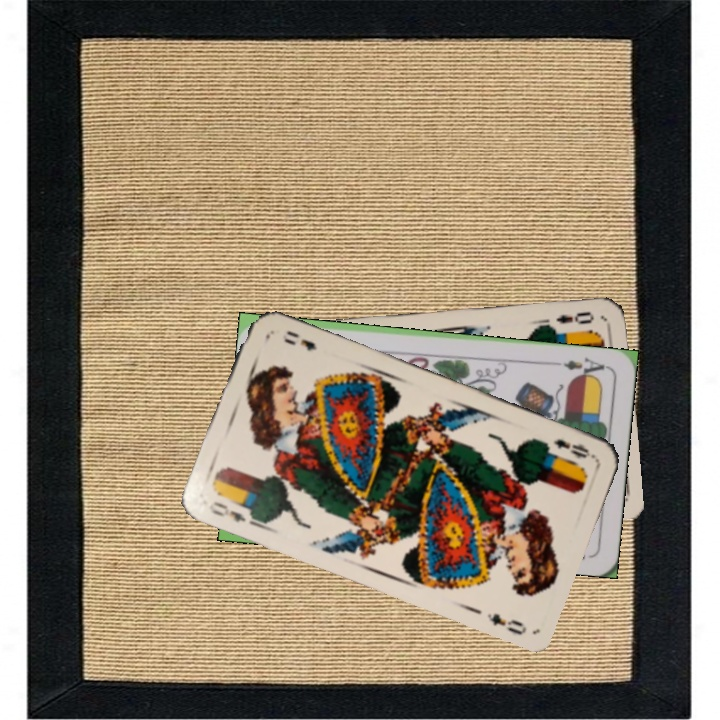EA: (551, 354, 610, 381)
EO: (204, 497, 260, 528), (550, 434, 597, 462), (552, 308, 597, 327)
